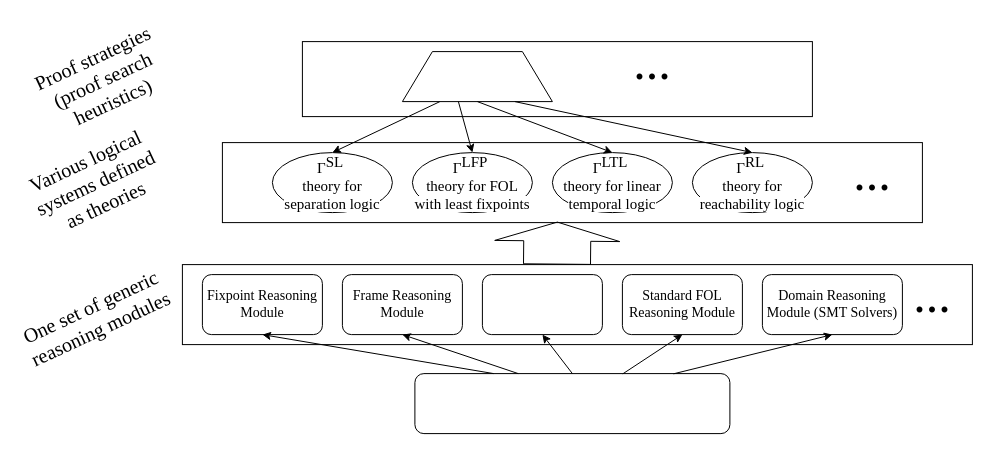
The diagram is 991 pixels wide and 451 high, and some of its shapes have lost their labels. Here are the shapes that lost their labels. From the top down, the centre of each, then its label:
the point at 476,76: Bounded DFS
the point at 541,304: Context Reasoning Module
the point at 572,403: Matching Logic
